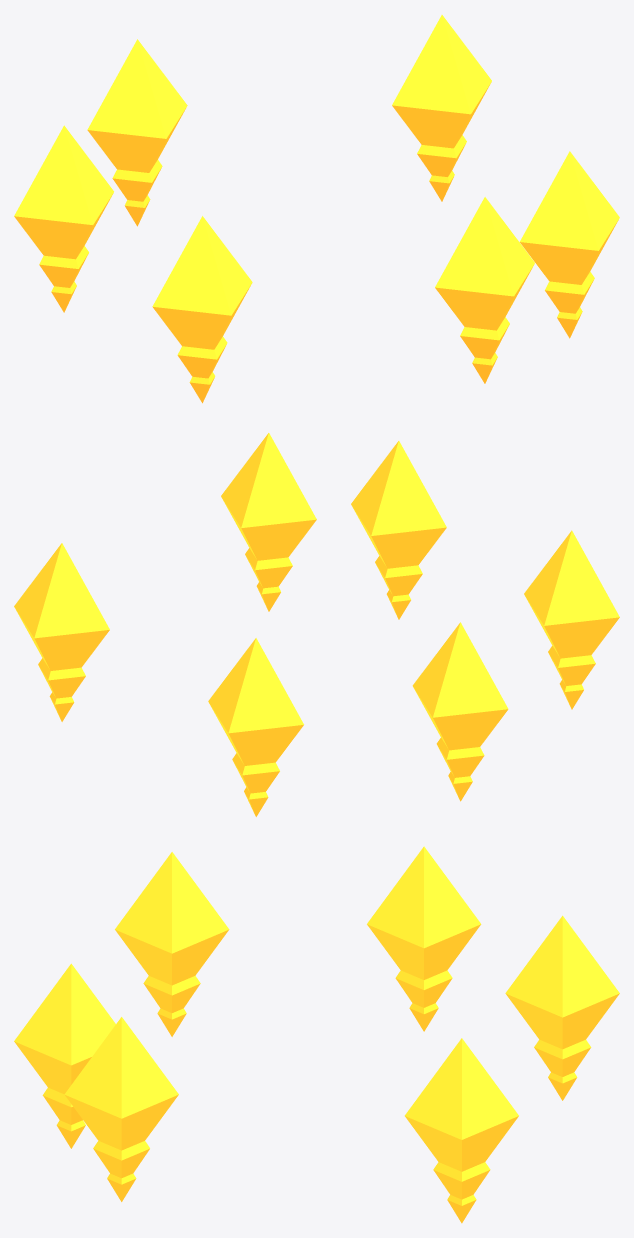
File: Facet_B.glb
3 views of the same model, one above another, from view 1: azimuth 30°, elevation 25°; view 2: azimuth 150°, elevation 25°; view 3: azimuth 270°, elevation 25° (orthographic). The views are drawn at different scales.
Visible parts, largest first — view 1: LanternPods; view 2: LanternPods; view 3: LanternPods.
Boxes of the visible parts, left/top/right/bottom form: LanternPods: left=14, top=15, right=619, bottom=403; LanternPods: left=14, top=433, right=619, bottom=816; LanternPods: left=14, top=846, right=619, bottom=1223.
Size of the model in its own units: 9.02 by 3.26 by 9.62.
